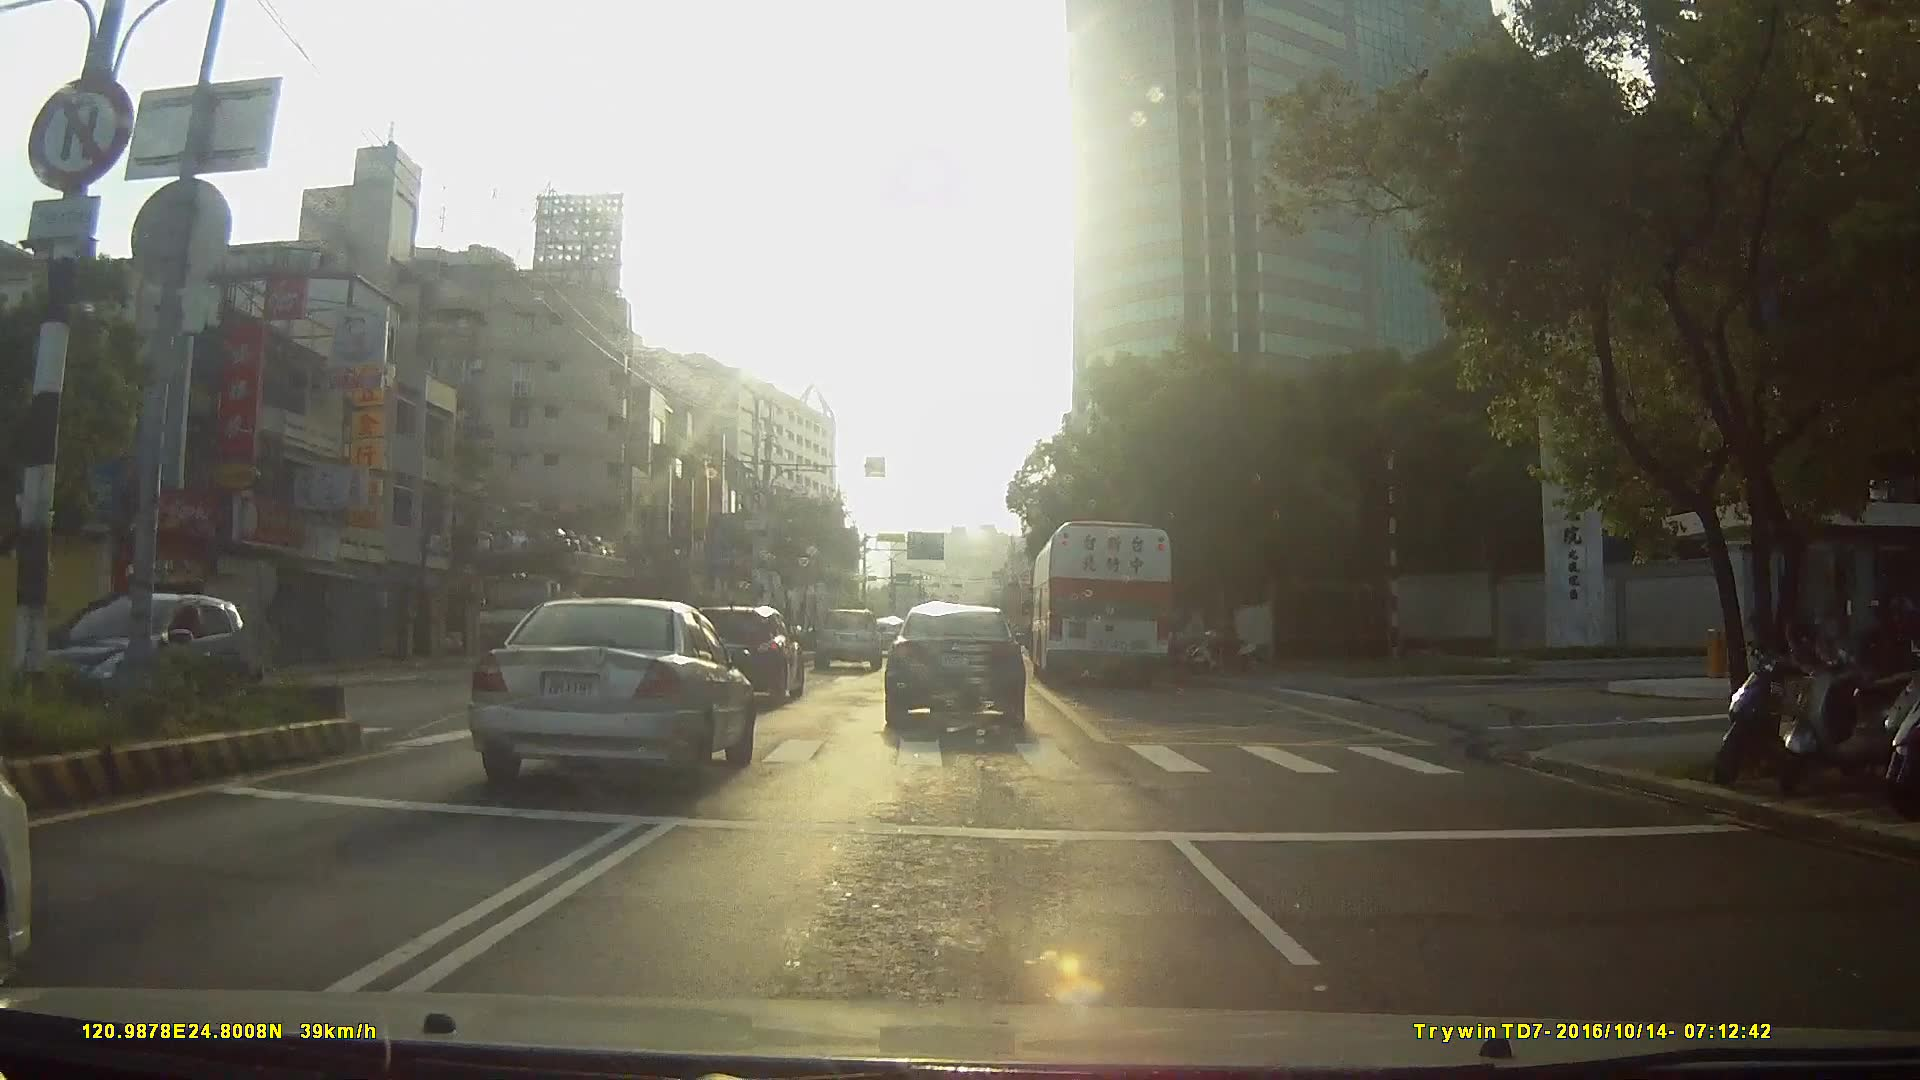vehicle: (458, 596, 754, 795), (458, 520, 640, 679), (37, 589, 262, 713), (1029, 517, 1174, 690), (881, 600, 1025, 732), (682, 607, 803, 708), (812, 607, 882, 673)
